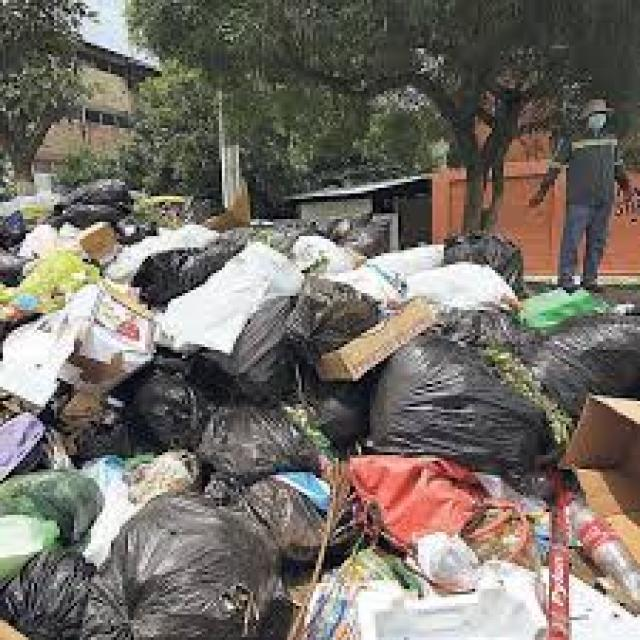Trashbag: (81, 516, 281, 635), (382, 345, 530, 474), (206, 402, 361, 466), (550, 319, 640, 410), (264, 475, 367, 549), (0, 552, 82, 639), (276, 279, 376, 346), (128, 378, 198, 452), (231, 316, 288, 398), (453, 221, 525, 260), (145, 247, 210, 290), (61, 178, 139, 205), (57, 192, 126, 222), (354, 220, 392, 251), (0, 220, 26, 249), (0, 248, 21, 278)
